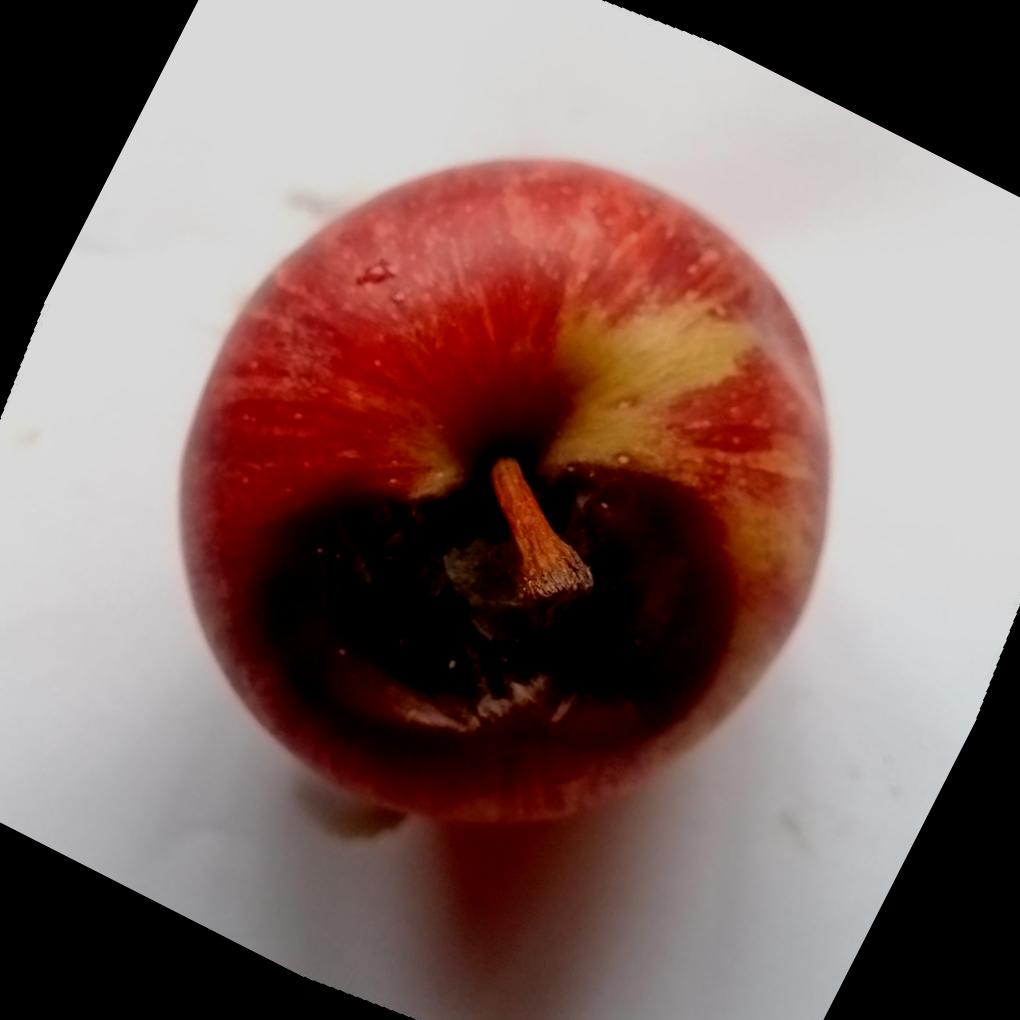FreshOrange: (174, 156, 832, 834)
